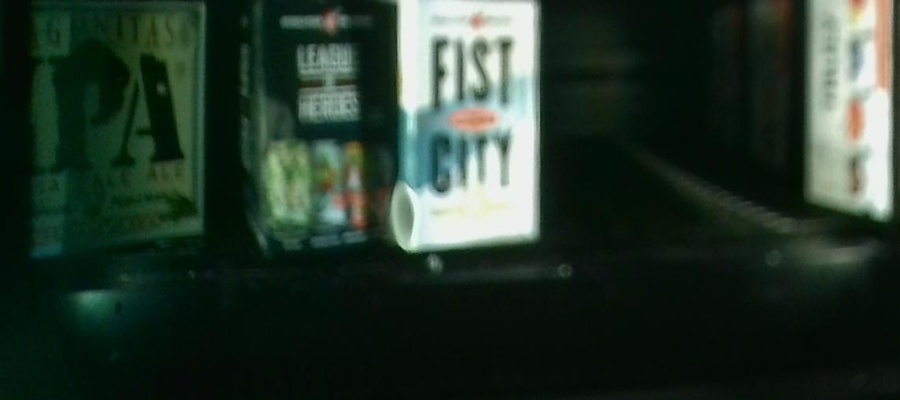bottle: (1, 4, 207, 246), (231, 7, 391, 251), (397, 2, 542, 243)
